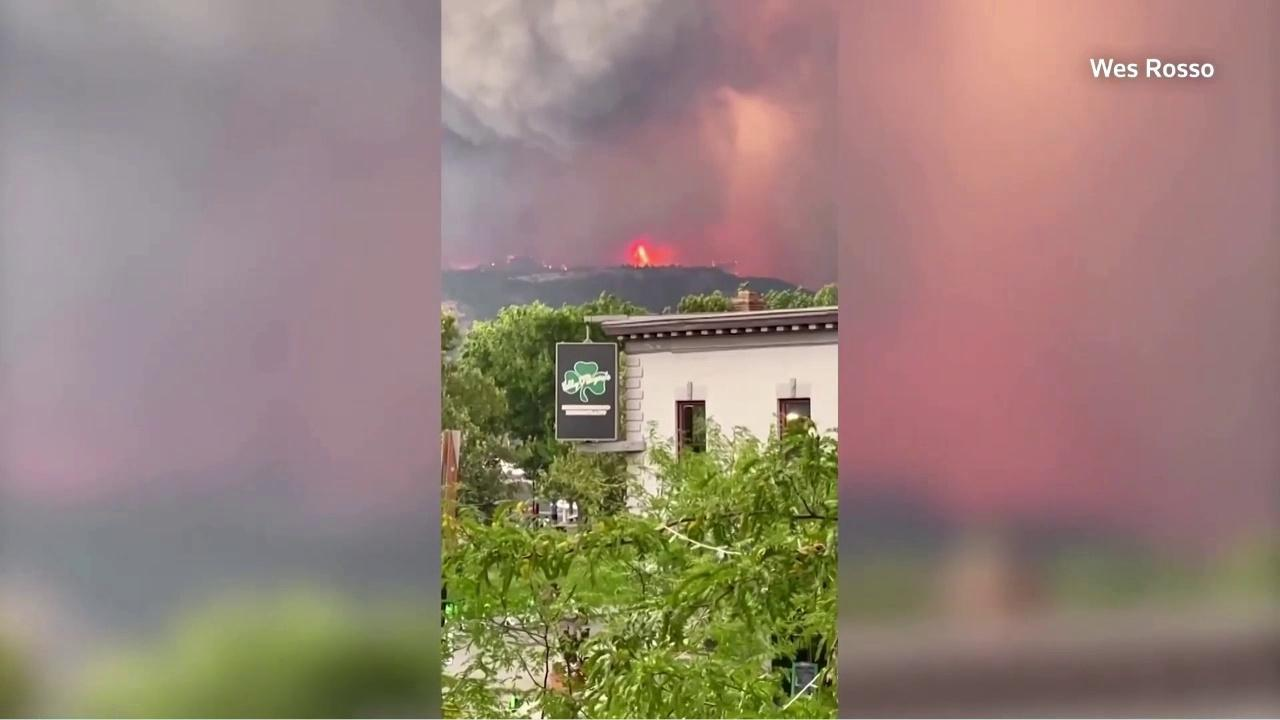fire: (623, 237, 679, 270), (712, 259, 715, 268), (564, 266, 568, 271), (491, 262, 495, 267), (549, 265, 552, 270)
smoke: (443, 0, 836, 297)
